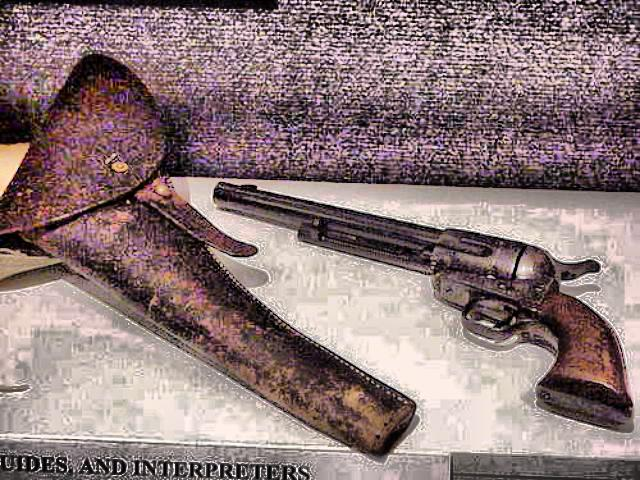pistol: (213, 178, 632, 428)
